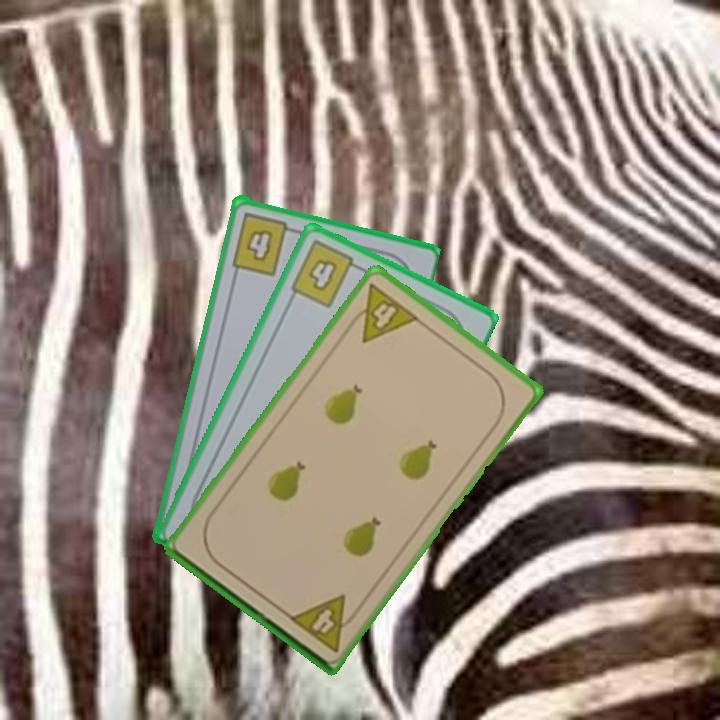4b: (287, 236, 366, 311), (228, 208, 300, 278)
4p: (342, 279, 422, 346), (285, 590, 363, 655)
